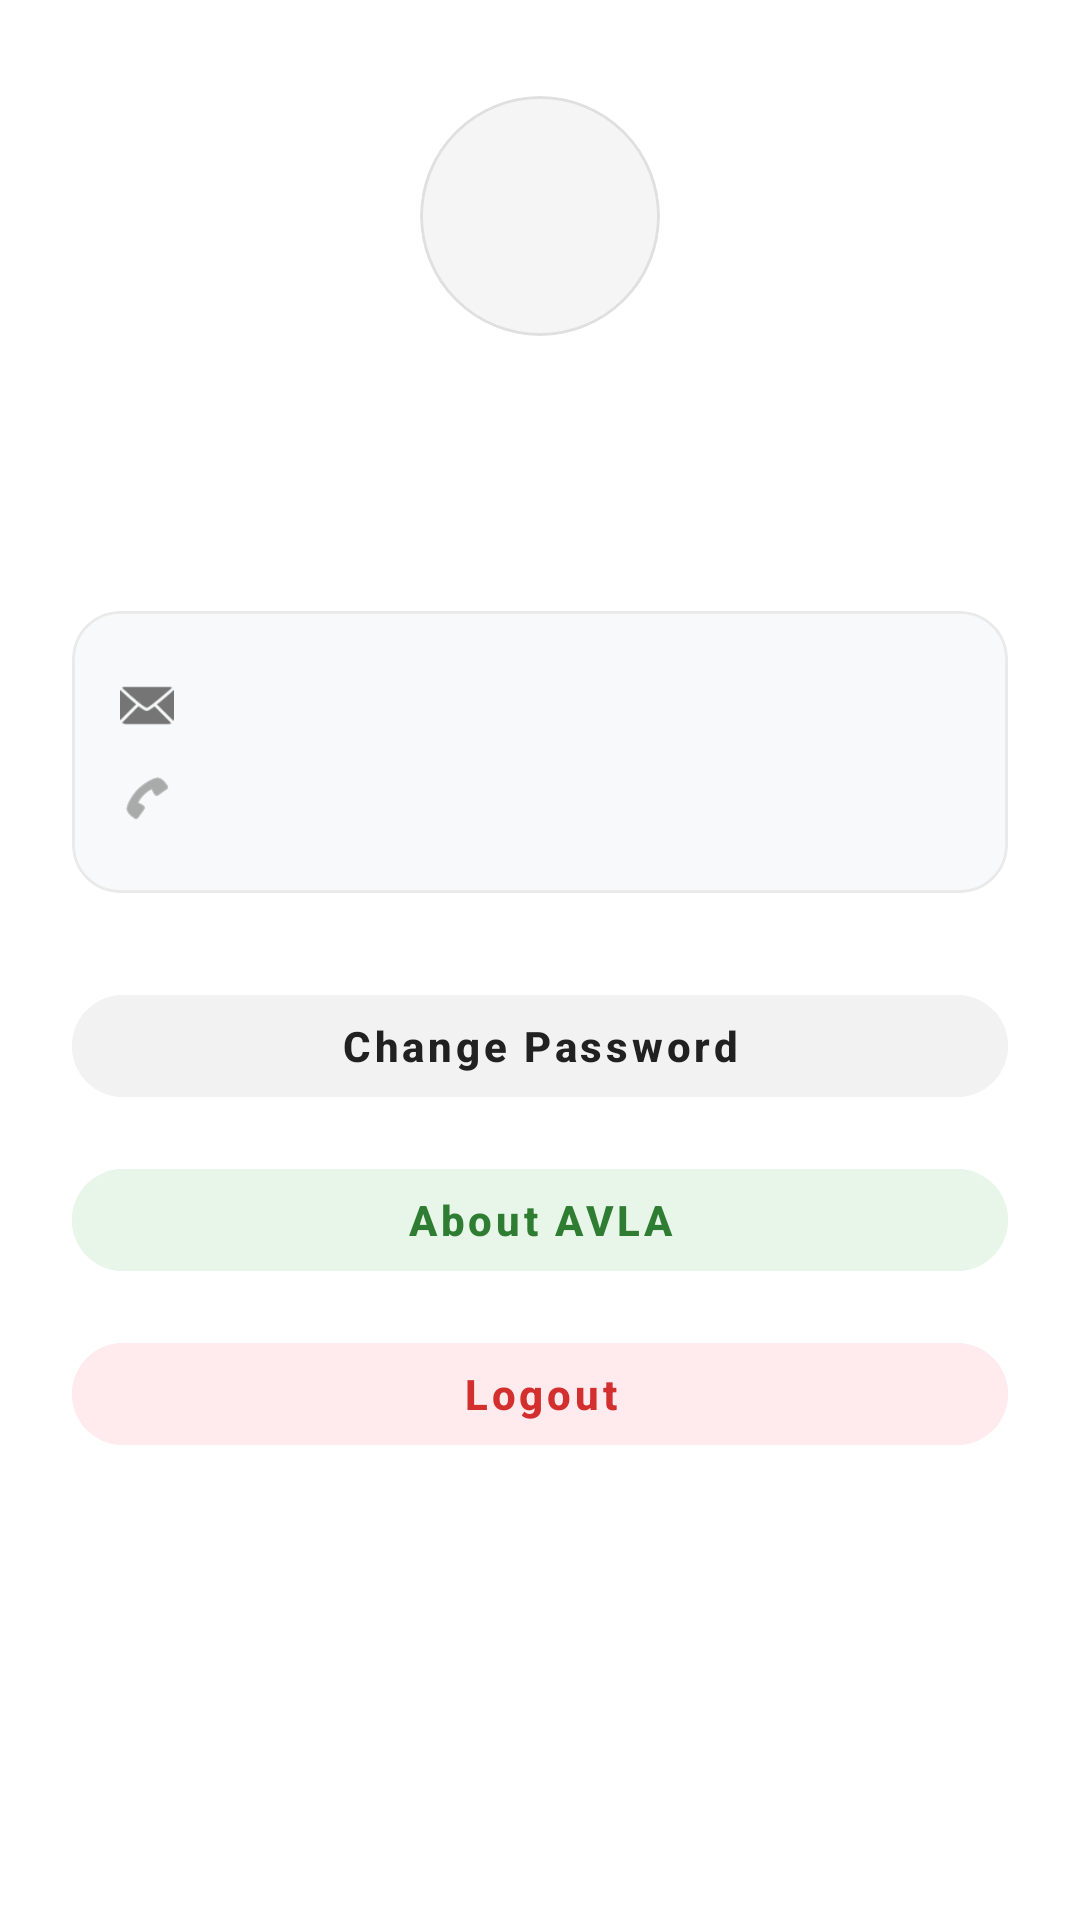

Locate icon controls on the screen. Image size 1080w x 1920h, boxes as (x1, y1, x2, y2).
call: (126, 777, 168, 819)
email: (120, 686, 174, 725)
